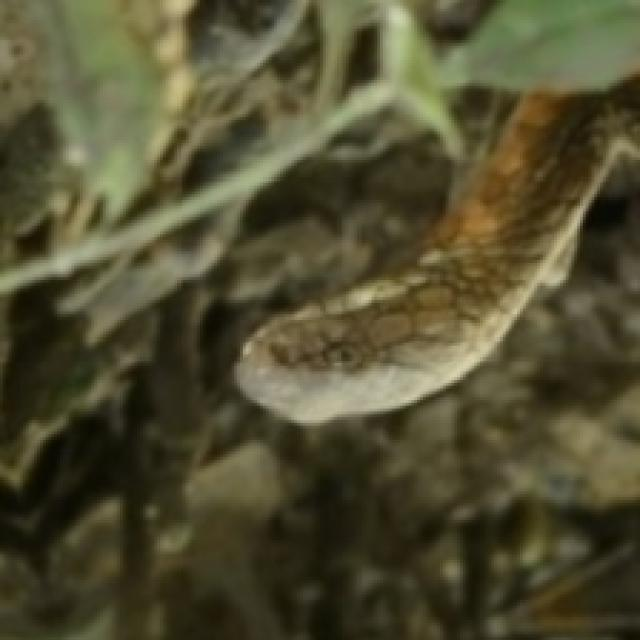king cobra: (234, 74, 637, 420)
